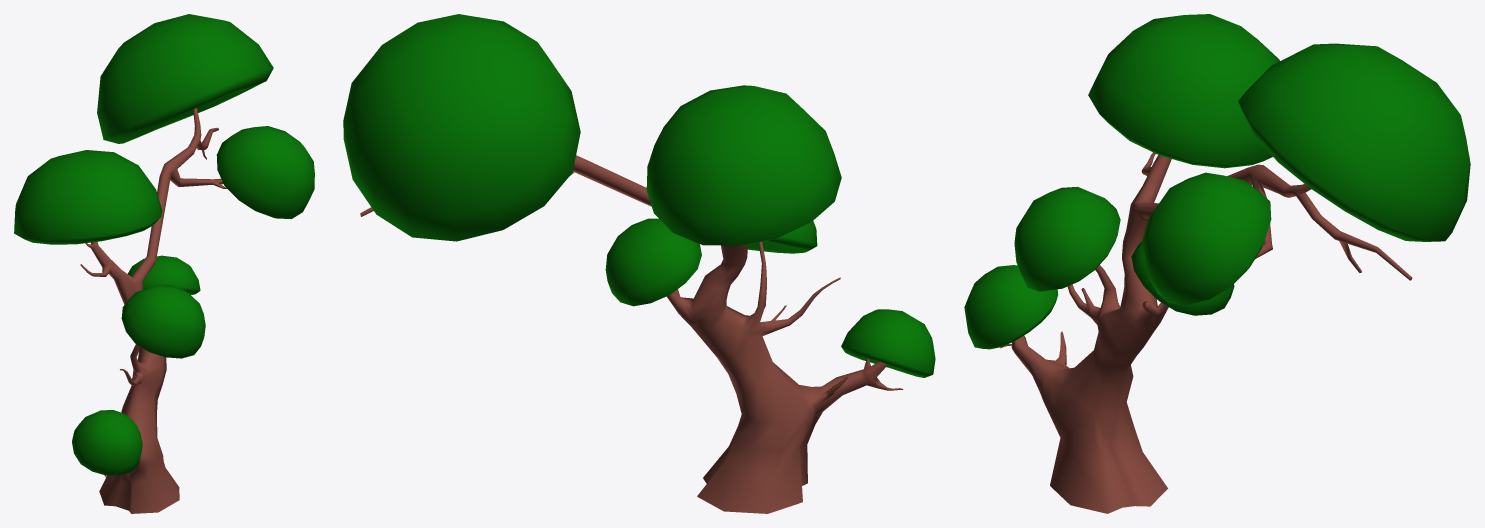
The model's file is SM_Tree_P_7.fbx.
3 renders of one model, left to right at view 1: azimuth 30°, elevation 25°; view 2: azimuth 150°, elevation 25°; view 3: azimuth 270°, elevation 25°, orthographic. The views are drawn at different scales.
Visible parts, largest first — view 1: SM_Tree_P_7; view 2: SM_Tree_P_7; view 3: SM_Tree_P_7.
Part boxes in pixels (x1,y1,x2,y2): SM_Tree_P_7: (14, 14, 314, 513); SM_Tree_P_7: (343, 14, 935, 513); SM_Tree_P_7: (964, 14, 1470, 513).
Bounding box in the file's own units: 995 × 1155 × 1007.
